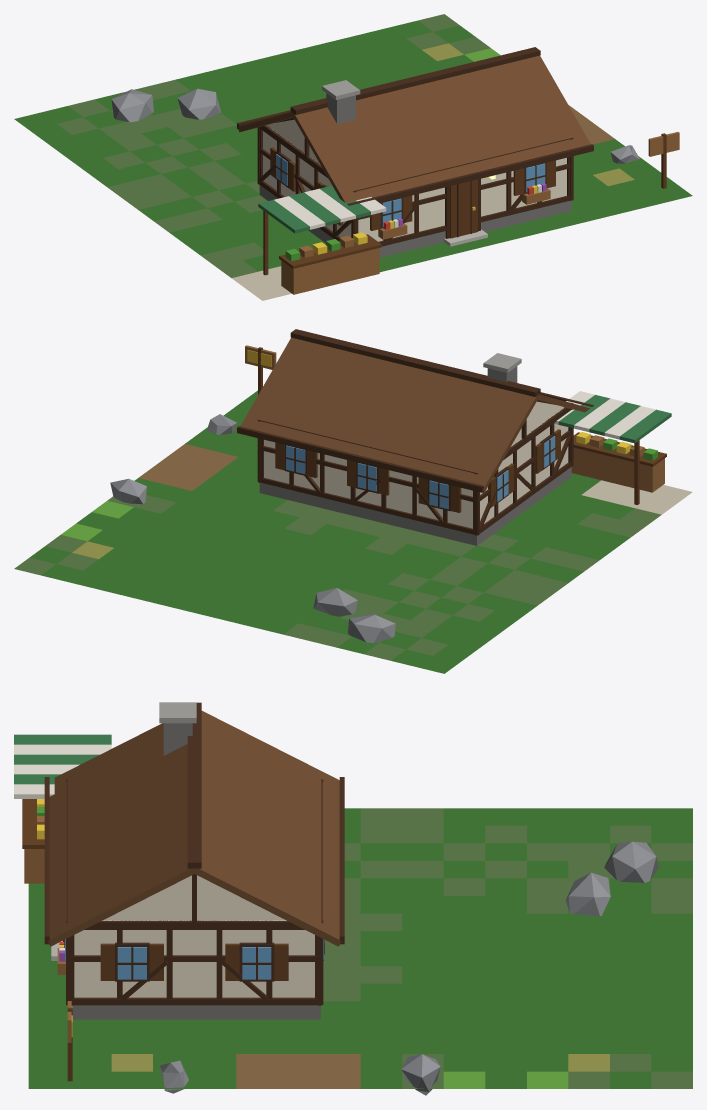
File: chunk_2_5.glb
3 renders of one model, top to bottom at view 1: azimuth 30°, elevation 25°; view 2: azimuth 150°, elevation 25°; view 3: azimuth 270°, elevation 25°, orthographic. The views are drawn at different scales.
Visible parts, largest first — view 1: chunk_2_5; view 2: chunk_2_5; view 3: chunk_2_5.
Boxes of the visible parts, <box> form: chunk_2_5: <box>14,14,692,300</box>; chunk_2_5: <box>14,329,692,673</box>; chunk_2_5: <box>14,702,692,1095</box>.
Size of the model in its own units: 16.19 by 5.45 by 16.35.
